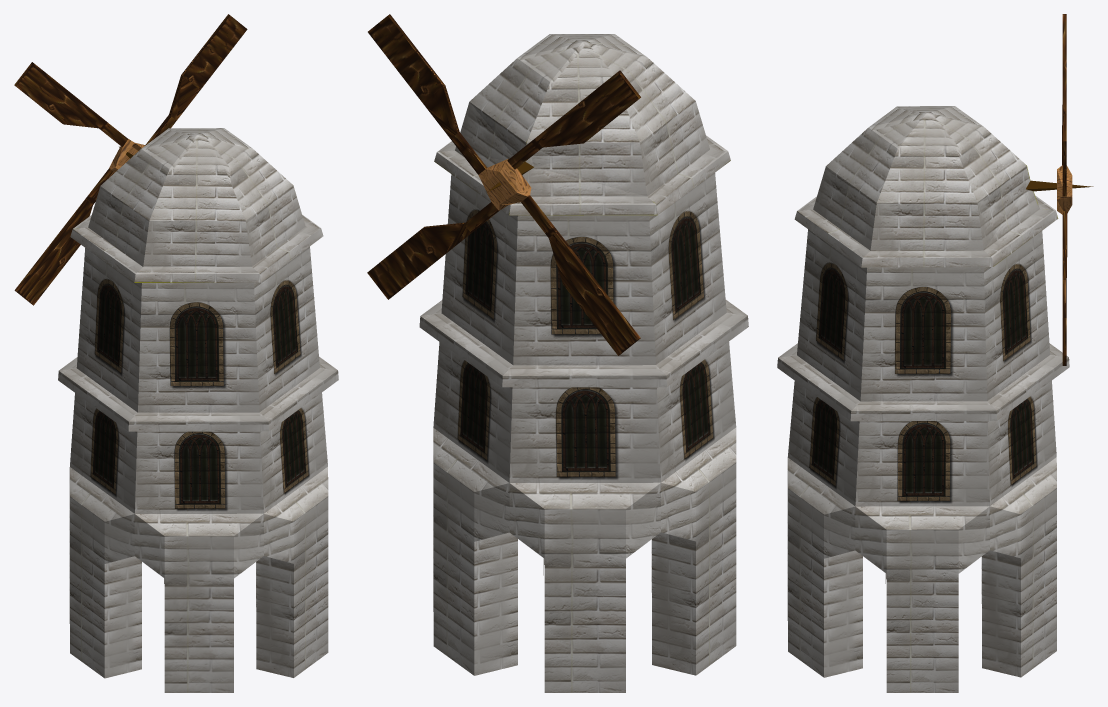
Rendered from turbine2.fbx.
The picture shows the model from 3 angles, left to right: view 1: azimuth 30°, elevation 25°; view 2: azimuth 150°, elevation 25°; view 3: azimuth 270°, elevation 25°; orthographic projection. The views are drawn at different scales.
Visible parts, largest first — view 1: polySurface26, polySurface23; view 2: polySurface26, polySurface23; view 3: polySurface26, polySurface23.
Part boxes in pixels (<box>): polySurface26: <box>58,128,338,692</box>; polySurface23: <box>14,14,247,305</box>; polySurface26: <box>419,34,748,692</box>; polySurface23: <box>367,14,640,355</box>; polySurface26: <box>777,106,1093,692</box>; polySurface23: <box>1057,14,1072,365</box>.
Bounding box in the file's own units: 5.35 × 12.11 × 6.07.
